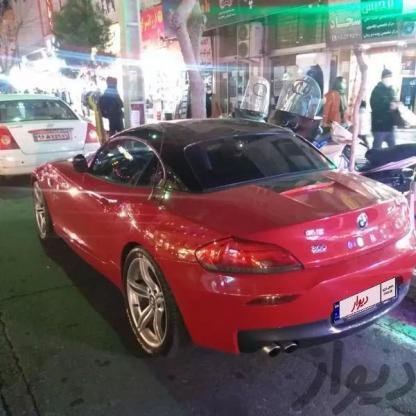Car: (31, 115, 416, 368), (0, 78, 103, 179)
